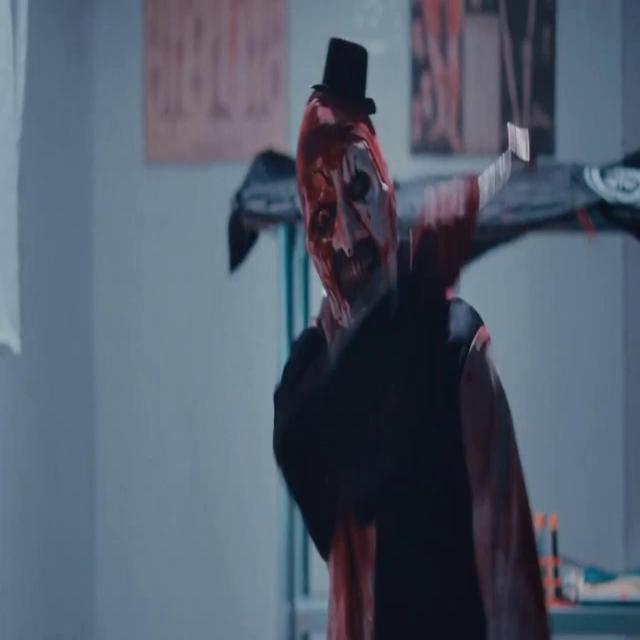flood: (300, 118, 344, 313)
